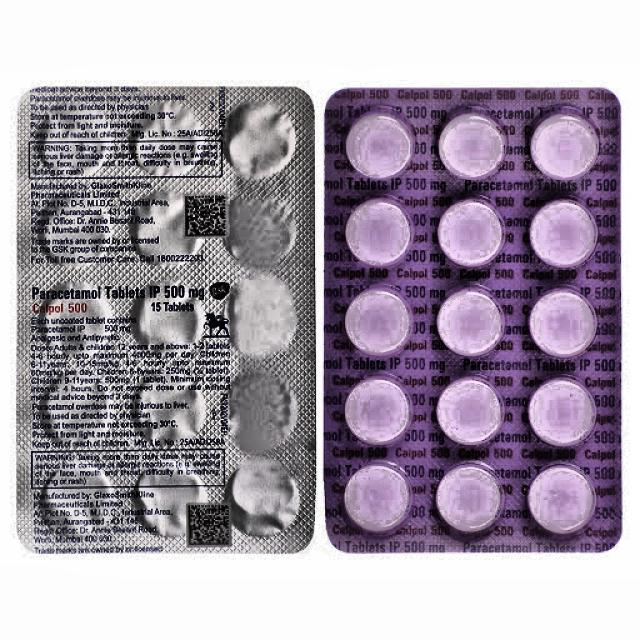Paracetamol: (23, 273, 241, 347)
